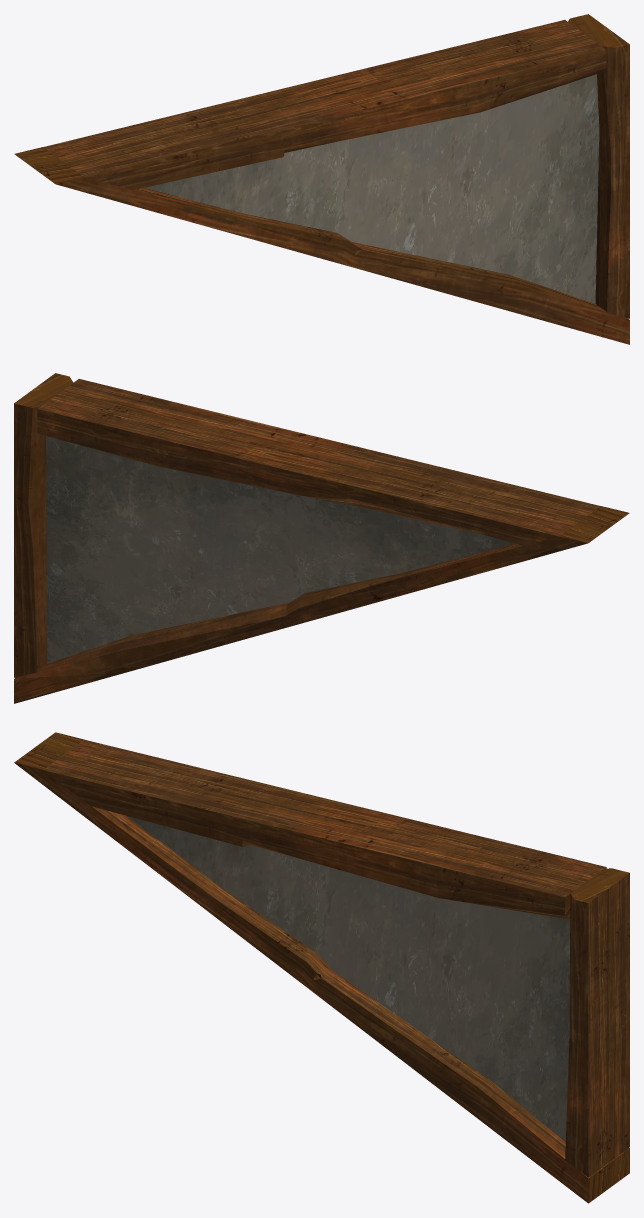
The picture shows the model from 3 angles, top to bottom: view 1: azimuth 30°, elevation 25°; view 2: azimuth 150°, elevation 25°; view 3: azimuth 330°, elevation 25°; orthographic projection.
Parts seen in each view (by area): view 1: SM_BB_T2_Wall_Slanted_Shallow_Large_Inverted_LOD0; view 2: SM_BB_T2_Wall_Slanted_Shallow_Large_Inverted_LOD0; view 3: SM_BB_T2_Wall_Slanted_Shallow_Large_Inverted_LOD0.
Boxes of the visible parts, x1,y1,x2,y2 form: SM_BB_T2_Wall_Slanted_Shallow_Large_Inverted_LOD0: (14,14,629,344); SM_BB_T2_Wall_Slanted_Shallow_Large_Inverted_LOD0: (14,373,629,703); SM_BB_T2_Wall_Slanted_Shallow_Large_Inverted_LOD0: (14,732,629,1203).
Bounding box in the file's own units: 3 × 1.5 × 0.3751.
2 materials, 2 textured.
